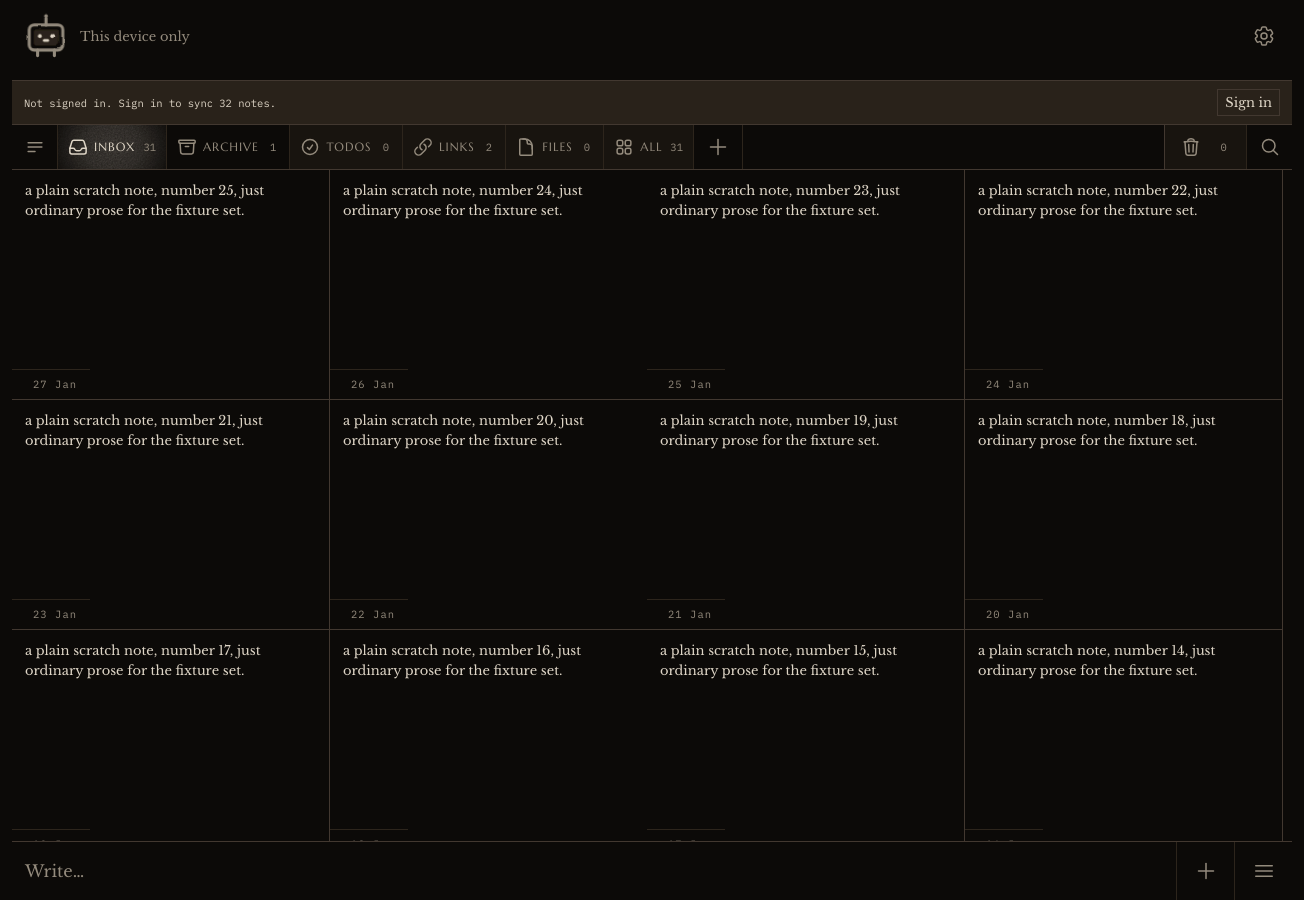
Test case: a signed-out device that holds notes › keeps the board with one line, and the line's button asks for the sign-in
The width and height of the screenshot is (1304, 900).
Check: the text "Not signed in. Sign in to sync 32 notes." is shown, box x1=24 y1=96 x2=276 y2=110
Check: the button with aria-label "a plain scratch note, number 25, just ordinary prose for the" is shown, box x1=12 y1=170 x2=330 y2=400
Click the button "Sign in": {"x": 1249, "y": 102} x1=1217 y1=89 x2=1280 y2=116
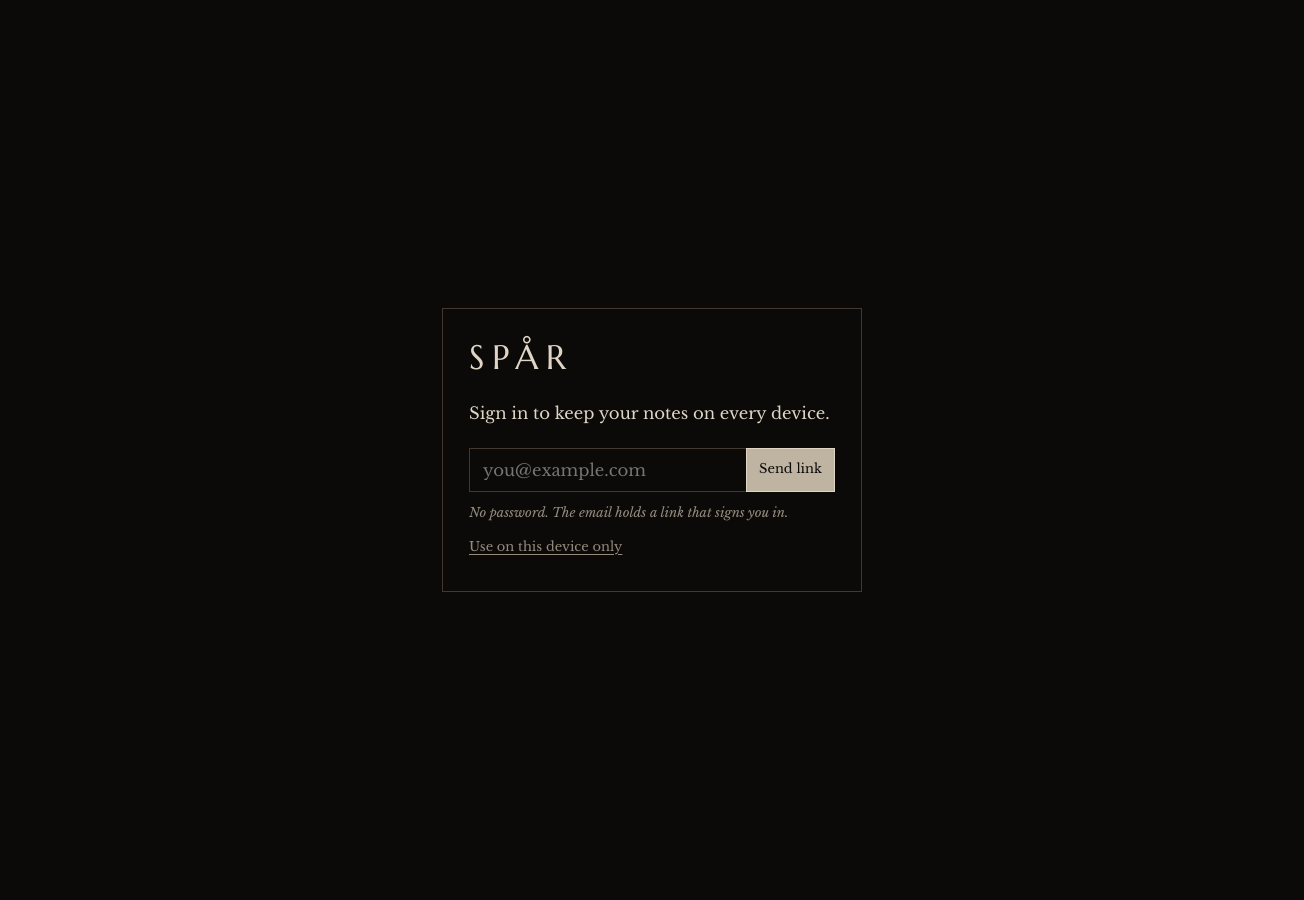
Check: the text "No password. The email holds a link that signs you in." is shown, box x1=469 y1=502 x2=835 y2=523
